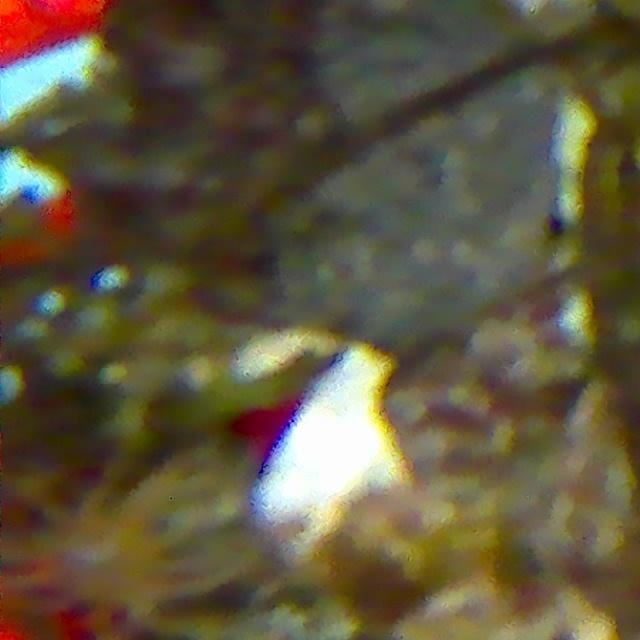SeaGrape: (212, 270, 268, 326), (143, 259, 193, 307), (72, 300, 122, 348)
